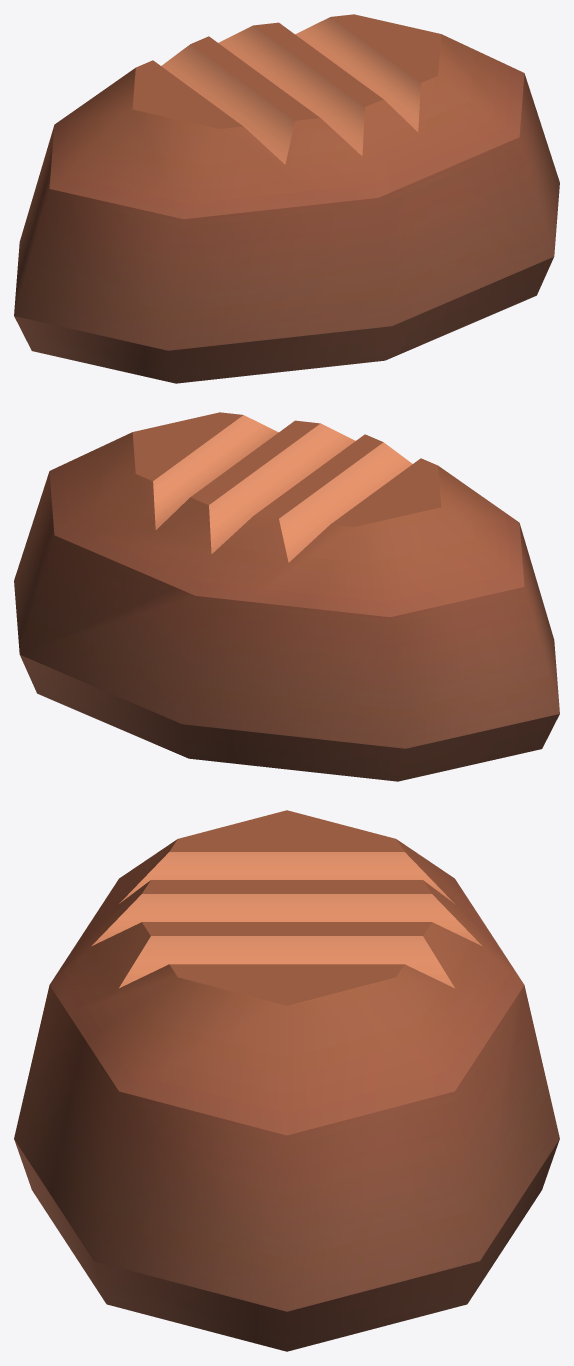
The model's file is loaf-round.glb.
3 renders of one model, top to bottom at view 1: azimuth 30°, elevation 25°; view 2: azimuth 150°, elevation 25°; view 3: azimuth 270°, elevation 25°, orthographic. The views are drawn at different scales.
Visible parts, largest first — view 1: loaf-round; view 2: loaf-round; view 3: loaf-round.
Part boxes in pixels (x1,y1,x2,y2): loaf-round: (14, 14, 559, 383); loaf-round: (14, 412, 559, 781); loaf-round: (14, 810, 559, 1351).
Bounding box in the file's own units: 0.7717 × 0.2932 × 0.5145.
Materials: 1 (1 with a texture image).
